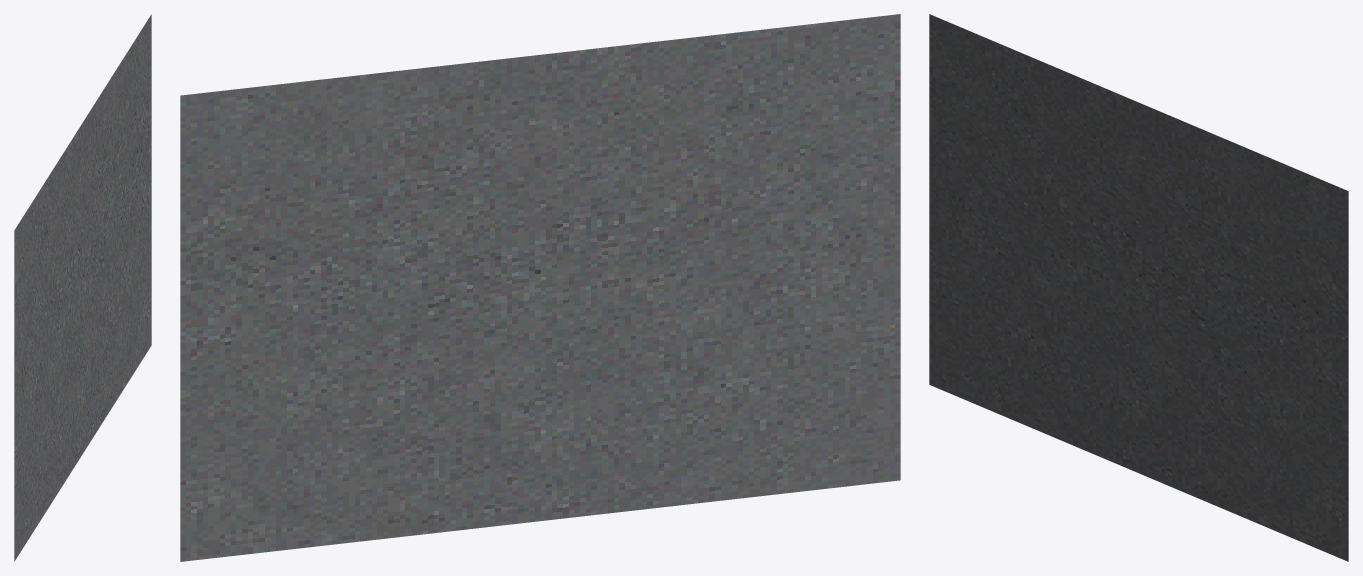
File: wallDiagonalPlaster3.glb
The picture shows the model from 3 angles, left to right: view 1: azimuth 30°, elevation 25°; view 2: azimuth 150°, elevation 25°; view 3: azimuth 270°, elevation 25°; orthographic projection. The views are drawn at different scales.
Parts seen in each view (by area): view 1: wallDiagonalPlaster3; view 2: wallDiagonalPlaster3; view 3: wallDiagonalPlaster3.
Part boxes in pixels (box(x1,y1,x2,y2)): wallDiagonalPlaster3: box(14, 14, 151, 561); wallDiagonalPlaster3: box(180, 14, 900, 561); wallDiagonalPlaster3: box(929, 14, 1348, 561).
Size of the model in its own units: 4.1 by 4 by 4.1.
Materials: 1 (1 with a texture image).
